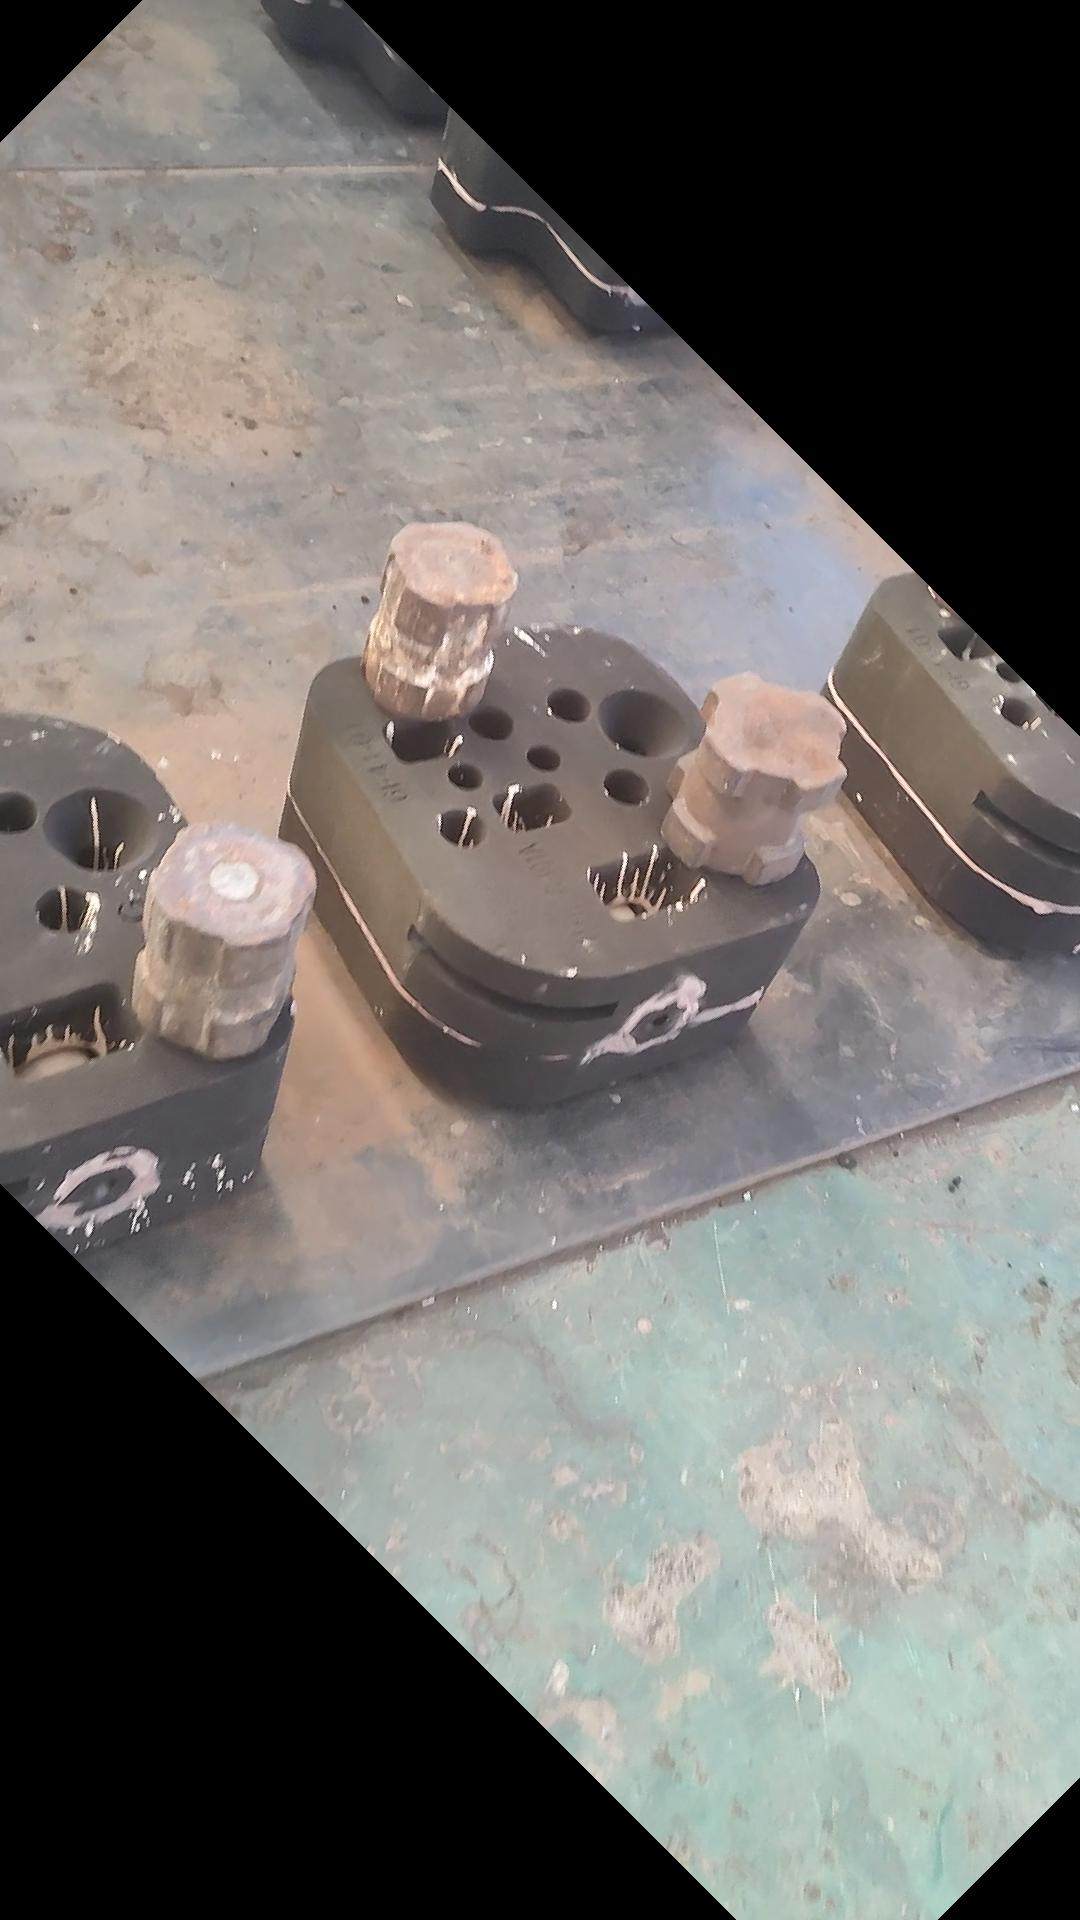pouring hole: (44, 787, 160, 874), (599, 688, 687, 756)
